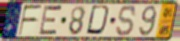8: (68, 5, 87, 37)
9: (138, 4, 159, 37)
D: (85, 4, 113, 37)
E: (37, 4, 64, 38)
F: (17, 4, 43, 37)
S: (115, 5, 137, 38)
